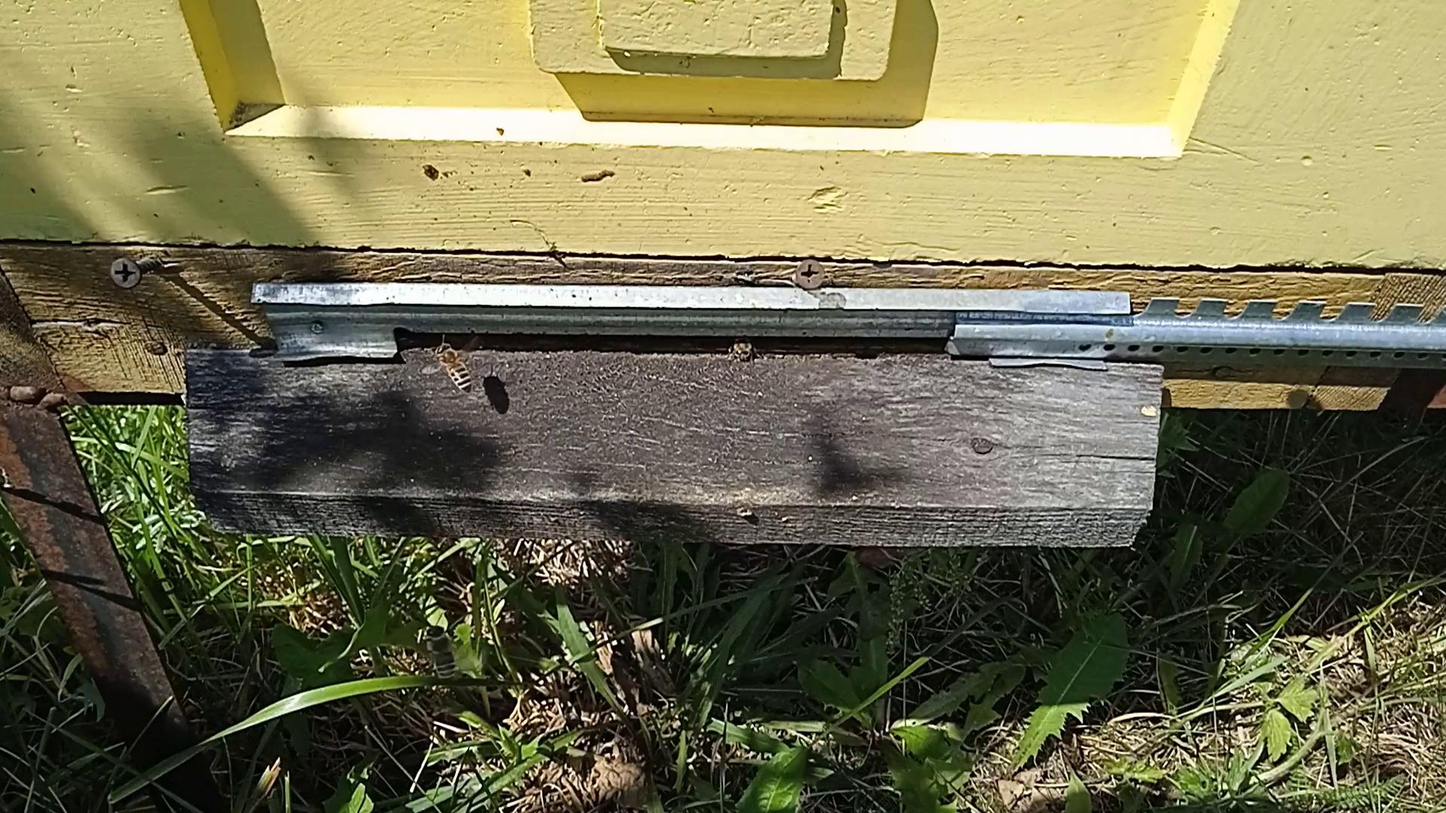worker-bee: (433, 342, 474, 393), (423, 625, 459, 682), (726, 335, 757, 363)
